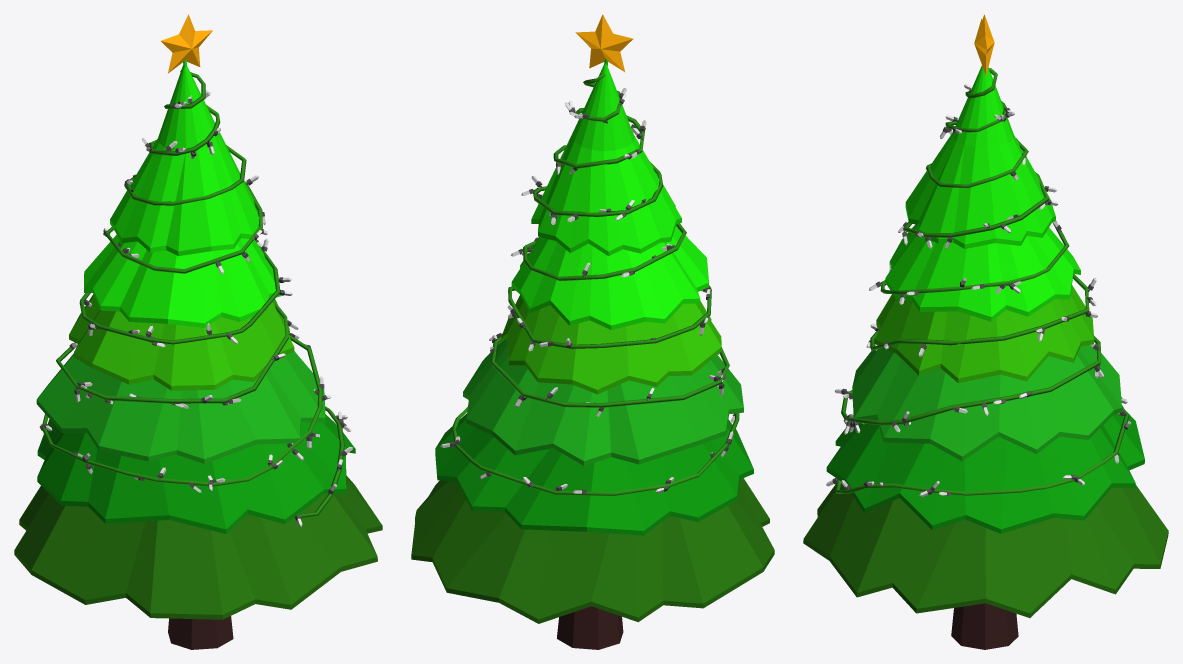
Rendered from main tree.fbx.
3 views of the same model, side by side, from view 1: azimuth 30°, elevation 25°; view 2: azimuth 150°, elevation 25°; view 3: azimuth 270°, elevation 25° (orthographic).
Parts seen in each view (by area): view 1: Tree 2; view 2: Tree 2; view 3: Tree 2.
Boxes of the visible parts, x1,y1,x2,y2 form: Tree 2: (14,14,382,649); Tree 2: (411,14,774,649); Tree 2: (803,14,1168,649).
Bounding box in the file's own units: 156 × 287 × 154.
